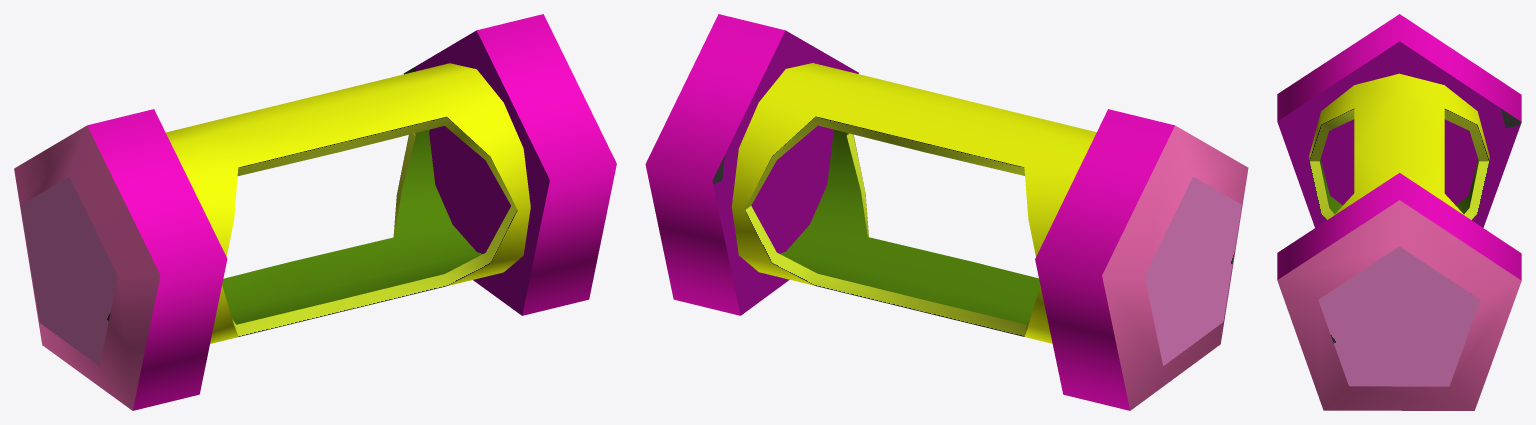
3 renders of one model, left to right at view 1: azimuth 30°, elevation 25°; view 2: azimuth 150°, elevation 25°; view 3: azimuth 270°, elevation 25°, orthographic. The views are drawn at different scales.
Parts seen in each view (by area): view 1: cap_01, cap_02, capsule_02, capsule_01; view 2: cap_01, cap_02, capsule_02, capsule_01; view 3: cap_02, cap_01, capsule_01, capsule_02.
Part boxes in pixels (x1=…): cap_01: x1=14, y1=109, x2=227, y2=410; cap_02: x1=403, y1=14, x2=616, y2=315; capsule_02: x1=289, y1=63, x2=530, y2=311; capsule_01: x1=166, y1=102, x2=342, y2=343; cap_01: x1=1035, y1=109, x2=1248, y2=410; cap_02: x1=645, y1=14, x2=858, y2=315; capsule_02: x1=731, y1=63, x2=973, y2=311; capsule_01: x1=920, y1=102, x2=1096, y2=343; cap_02: x1=1277, y1=173, x2=1521, y2=410; cap_01: x1=1277, y1=14, x2=1521, y2=227; capsule_01: x1=1309, y1=73, x2=1489, y2=220; capsule_02: x1=1333, y1=139, x2=1464, y2=215.
Bounding box in the file's own units: 478 × 234 × 246.
